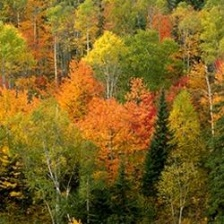neutral: (1, 1, 224, 222)
